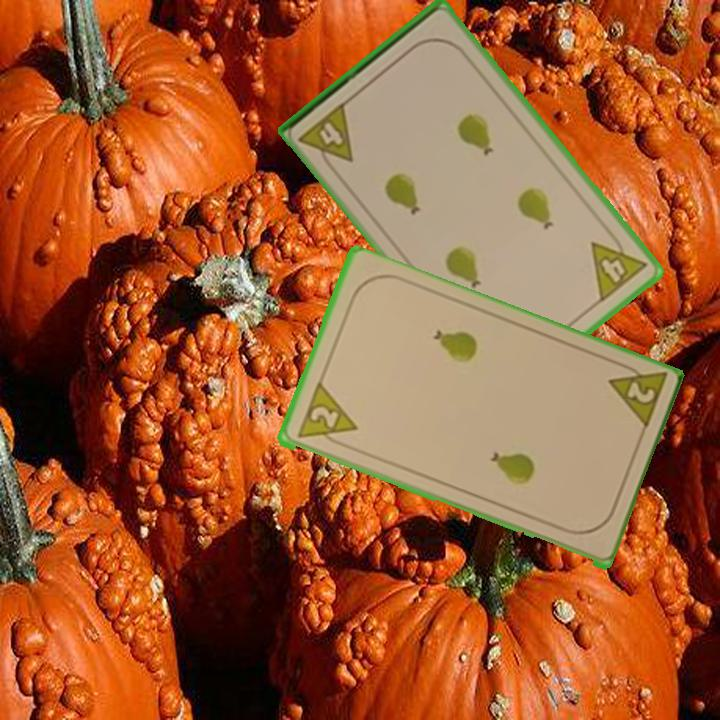2p: (603, 357, 669, 435), (293, 381, 359, 450)
4p: (587, 225, 651, 306), (295, 98, 357, 176)
